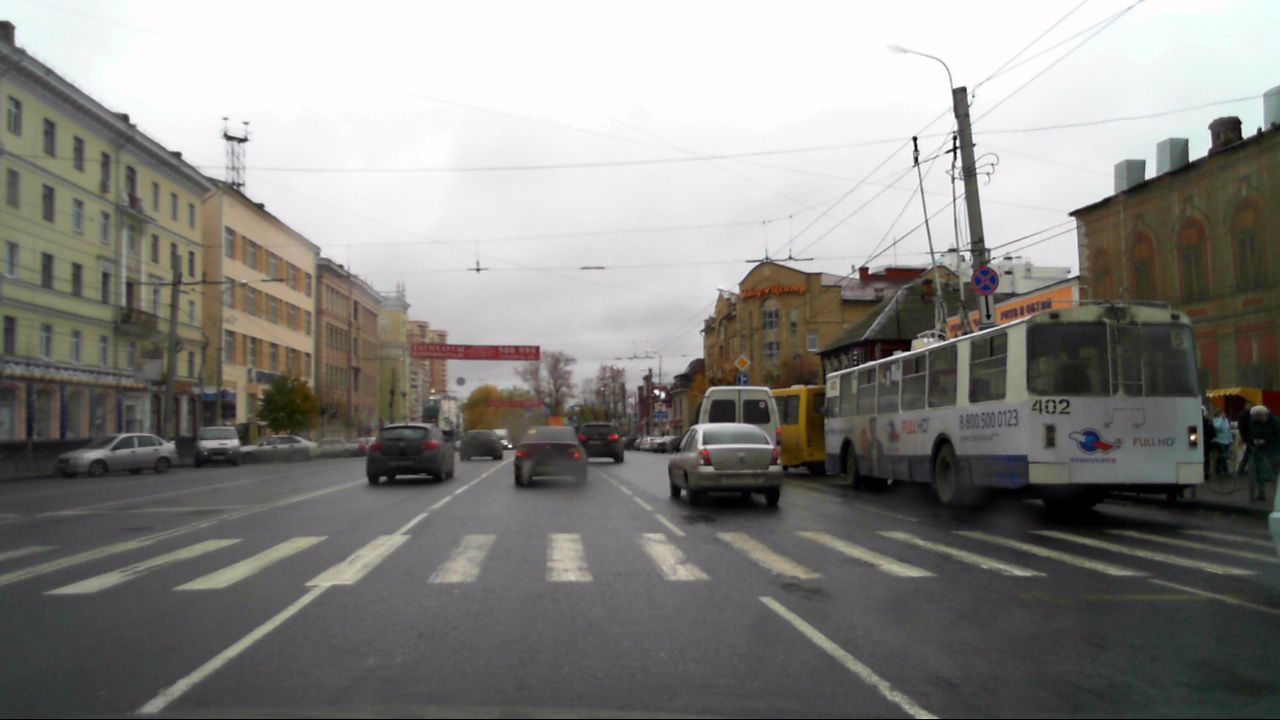No Parking: (971, 266, 997, 295)
